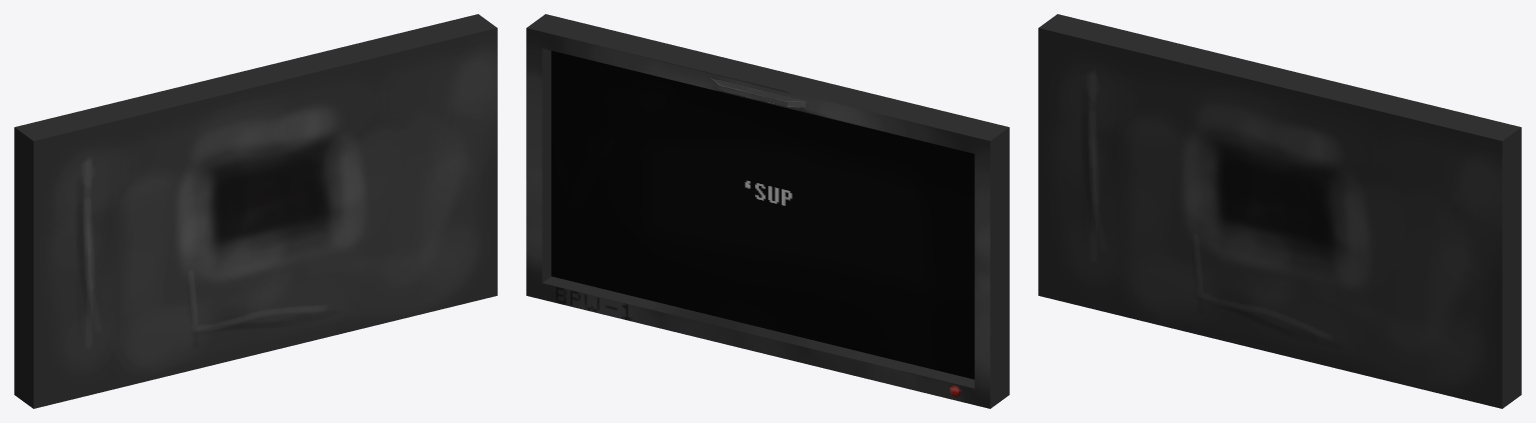
File: tutorialMonitor.fbx
3 views of the same model, side by side, from view 1: azimuth 30°, elevation 25°; view 2: azimuth 150°, elevation 25°; view 3: azimuth 330°, elevation 25° (orthographic).
Visible parts, largest first — view 1: tutorialMonitor; view 2: tutorialMonitor; view 3: tutorialMonitor.
Boxes of the visible parts, box(x1,y1,x2,y2) form: tutorialMonitor: box(14, 14, 497, 408); tutorialMonitor: box(526, 14, 1009, 408); tutorialMonitor: box(1038, 14, 1521, 408).
Size of the model in its own units: 3.63 by 2 by 0.3236.
1 material, 1 textured.
